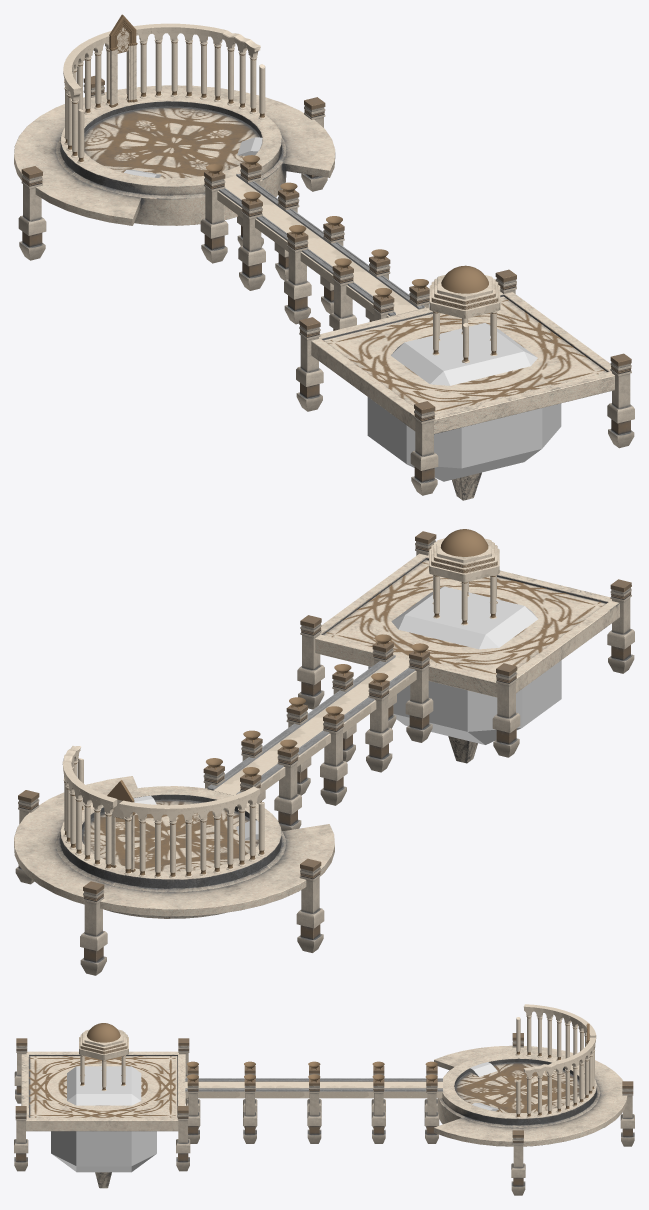
File: new_arena2.fbx
3 renders of one model, top to bottom at view 1: azimuth 30°, elevation 25°; view 2: azimuth 150°, elevation 25°; view 3: azimuth 270°, elevation 25°, orthographic. The views are drawn at different scales.
Parts seen in each view (by area): view 1: pCylinder5, pCube47, pCube68, 立方体, polySurface45, polySurface39, polySurface29, pCylinder37, pCylinder71, pSphere1, polySurface37, pCylinder70 (+1 smaller); view 2: pCylinder5, pCube68, pCube47, 立方体, polySurface39, polySurface45, polySurface29, pCylinder37, pCylinder71, pSphere1, polySurface41; view 3: pCylinder5, pCube47, pCube68, 立方体, polySurface45, polySurface39, polySurface29, pCylinder37, pCylinder71, pSphere1, polySurface41, pCylinder70.
Boxes of the visible parts, bbox=[...] form: pCylinder5: bbox=[14, 85, 335, 225]; pCube47: bbox=[311, 292, 614, 500]; pCube68: bbox=[18, 76, 634, 495]; 立方体: bbox=[367, 323, 561, 481]; polySurface45: bbox=[217, 173, 425, 317]; polySurface39: bbox=[64, 38, 257, 157]; polySurface29: bbox=[63, 23, 226, 93]; pCylinder37: bbox=[429, 274, 500, 318]; pCylinder71: bbox=[206, 155, 428, 299]; pSphere1: bbox=[441, 265, 488, 293]; polySurface37: bbox=[109, 42, 137, 107]; pCylinder70: bbox=[77, 64, 266, 163]; pCylinder5: bbox=[14, 776, 334, 918]; pCube68: bbox=[15, 531, 634, 975]; pCube47: bbox=[315, 553, 619, 763]; 立方体: bbox=[368, 586, 561, 744]; polySurface39: bbox=[63, 760, 256, 878]; polySurface45: bbox=[206, 655, 416, 795]; polySurface29: bbox=[62, 762, 250, 820]; pCylinder37: bbox=[429, 538, 499, 582]; pCylinder71: bbox=[206, 634, 428, 778]; pSphere1: bbox=[440, 529, 488, 556]; polySurface41: bbox=[432, 575, 469, 625]; pCylinder5: bbox=[434, 1045, 627, 1146]; pCube47: bbox=[21, 1051, 185, 1188]; pCube68: bbox=[14, 1033, 634, 1195]; 立方体: bbox=[51, 1066, 156, 1172]; polySurface45: bbox=[185, 1078, 442, 1098]; polySurface39: bbox=[526, 1015, 595, 1117]; polySurface29: bbox=[534, 1005, 596, 1072]; pCylinder37: bbox=[79, 1029, 128, 1060]; pCylinder71: bbox=[187, 1061, 437, 1082]; pSphere1: bbox=[87, 1023, 120, 1042]; polySurface41: bbox=[80, 1055, 125, 1091]; pCylinder70: bbox=[515, 1017, 521, 1118].
Bounding box in the file's own units: 567 × 417 × 1440.
